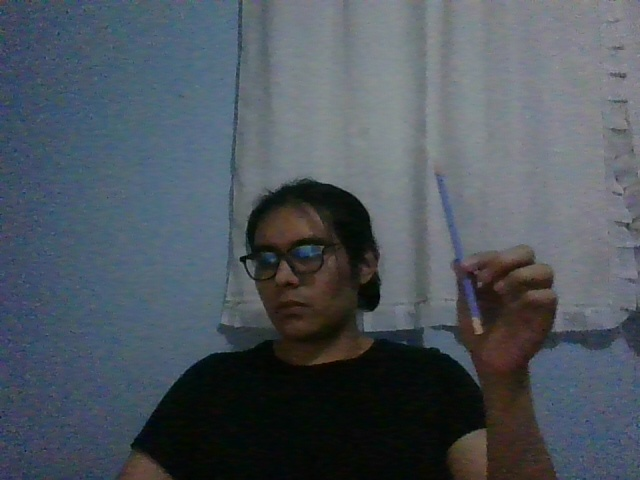lapiz: (433, 162, 485, 336)
